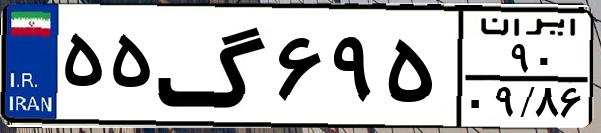0: (537, 27, 568, 80), (470, 70, 495, 125)
5: (385, 28, 445, 110), (57, 26, 110, 100), (110, 28, 156, 98)
6: (270, 28, 330, 110), (560, 70, 590, 125)
8: (535, 70, 560, 125)
9: (330, 28, 385, 110), (508, 27, 537, 80), (495, 70, 520, 125)
گ: (156, 12, 270, 120)
